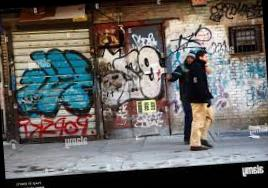graffiti: (100, 32, 166, 134), (12, 44, 97, 114), (216, 55, 267, 110), (17, 110, 91, 144), (209, 0, 262, 21), (176, 26, 214, 52)
